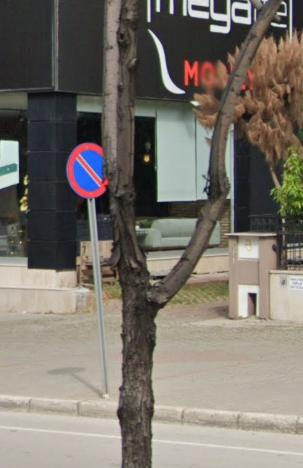nopark: (68, 138, 112, 194)
